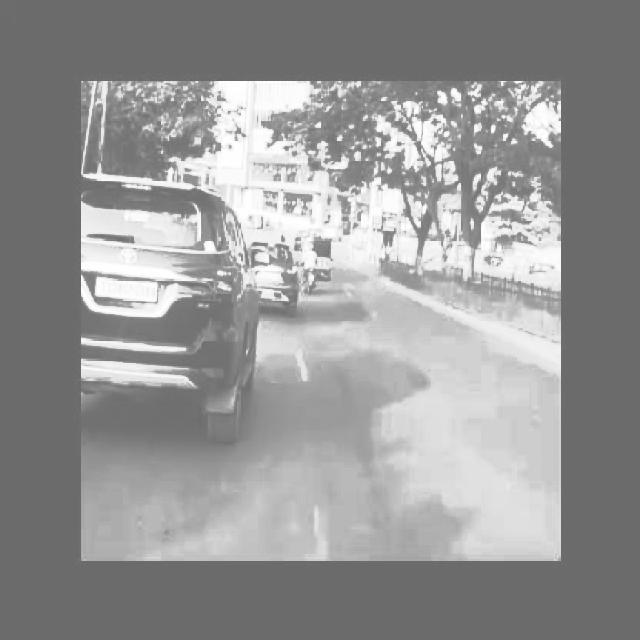Car: (72, 152, 262, 467), (250, 226, 304, 328)
